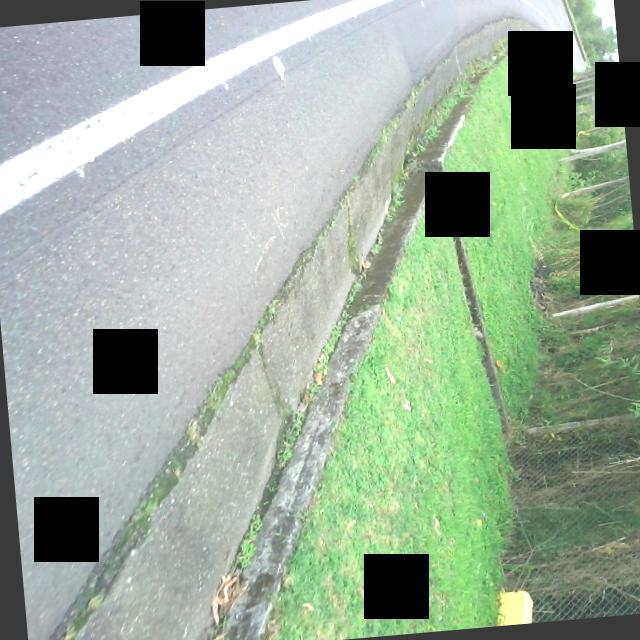DITCH: (0, 8, 633, 640), (0, 0, 625, 640)
